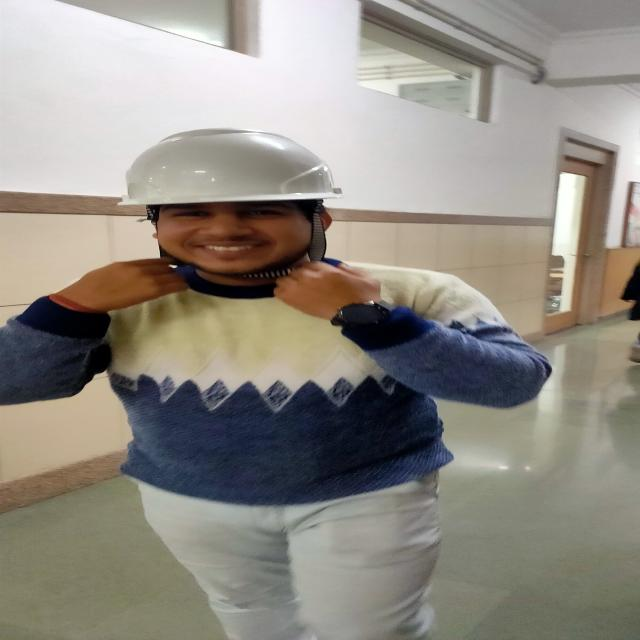no jacket: (0, 129, 549, 640)
